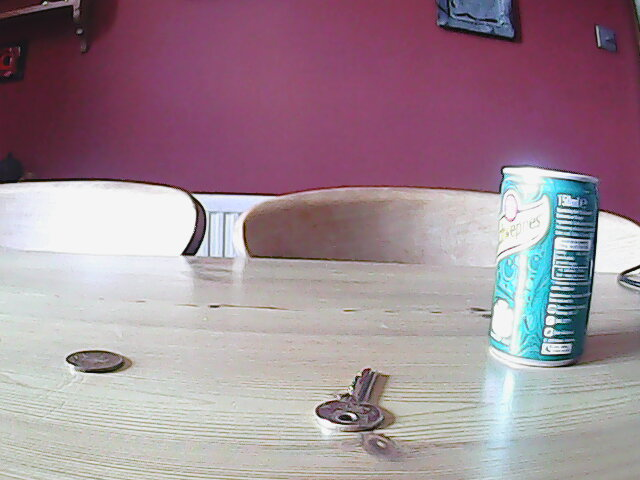Can: (484, 163, 601, 373)
Coin: (62, 348, 130, 376)
Key: (313, 366, 387, 435)
